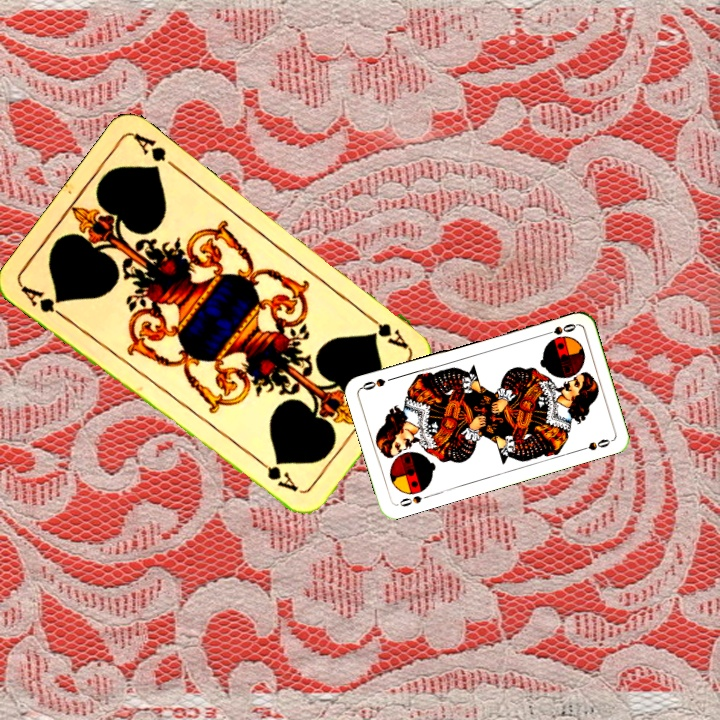GA: (360, 309, 411, 351), (17, 281, 69, 322)
SO: (539, 319, 579, 339), (393, 491, 433, 509)
